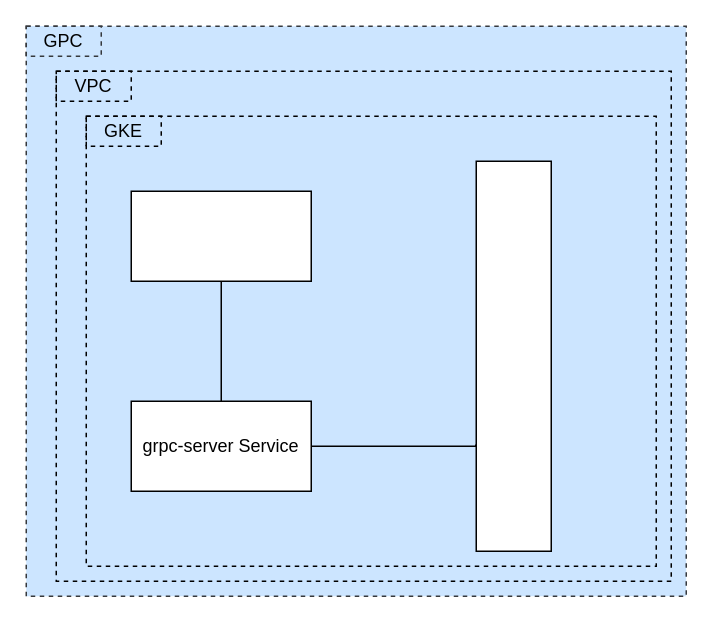
The diagram is 713 pixels wide and 623 high, and some of its shapes have lost their labels. Each missing label, with the centre of its shape:
"grpc-server" belongs at point 220,235.
"Ingress" belongs at point 513,355.
